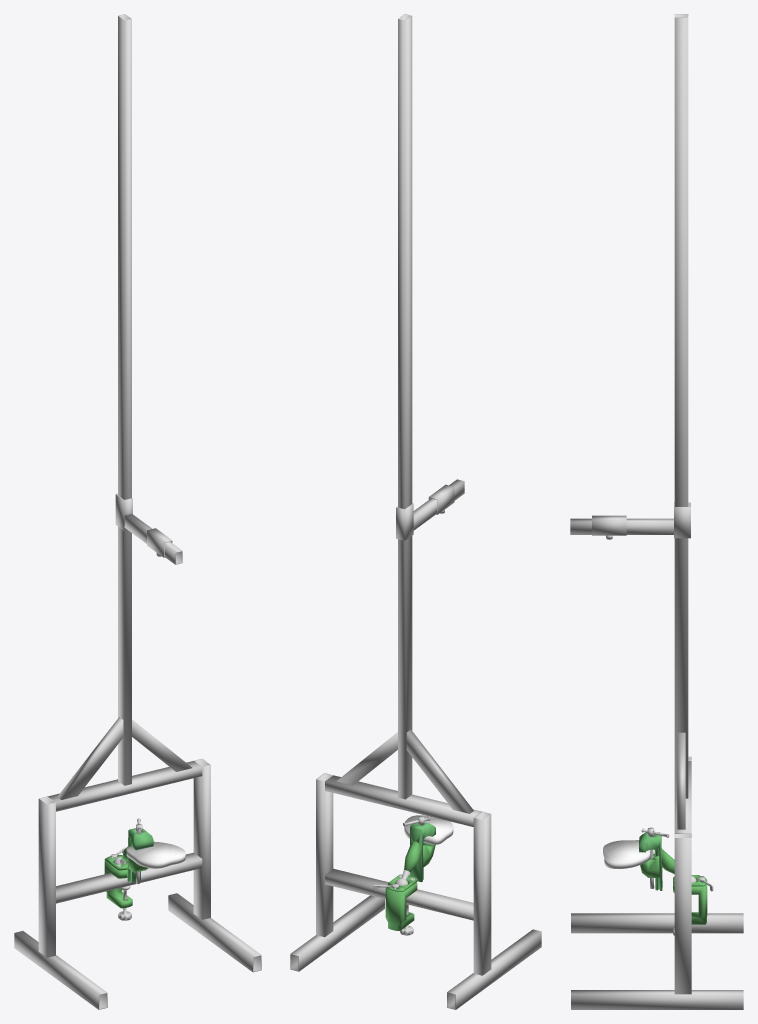
File: drop_tower.glb
3 renders of one model, left to right at view 1: azimuth 30°, elevation 25°; view 2: azimuth 150°, elevation 25°; view 3: azimuth 270°, elevation 25°, orthographic. The views are drawn at different scales.
Visible parts, largest first — view 1: drop_tower; view 2: drop_tower; view 3: drop_tower.
Boxes of the visible parts, x1,y1,x2,y2 form: drop_tower: (14,14,261,1009); drop_tower: (290,14,541,1009); drop_tower: (570,14,743,1009).
Size of the model in its own units: 0.56 by 3.05 by 0.502.
